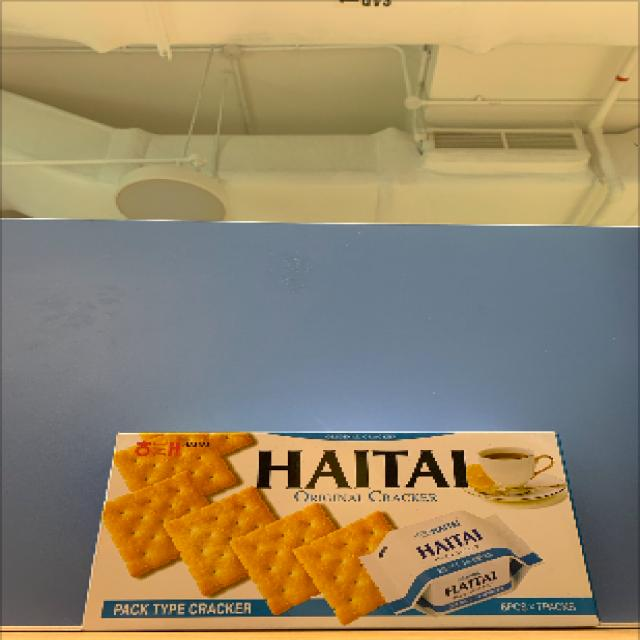object_name: (110, 434, 577, 631)
